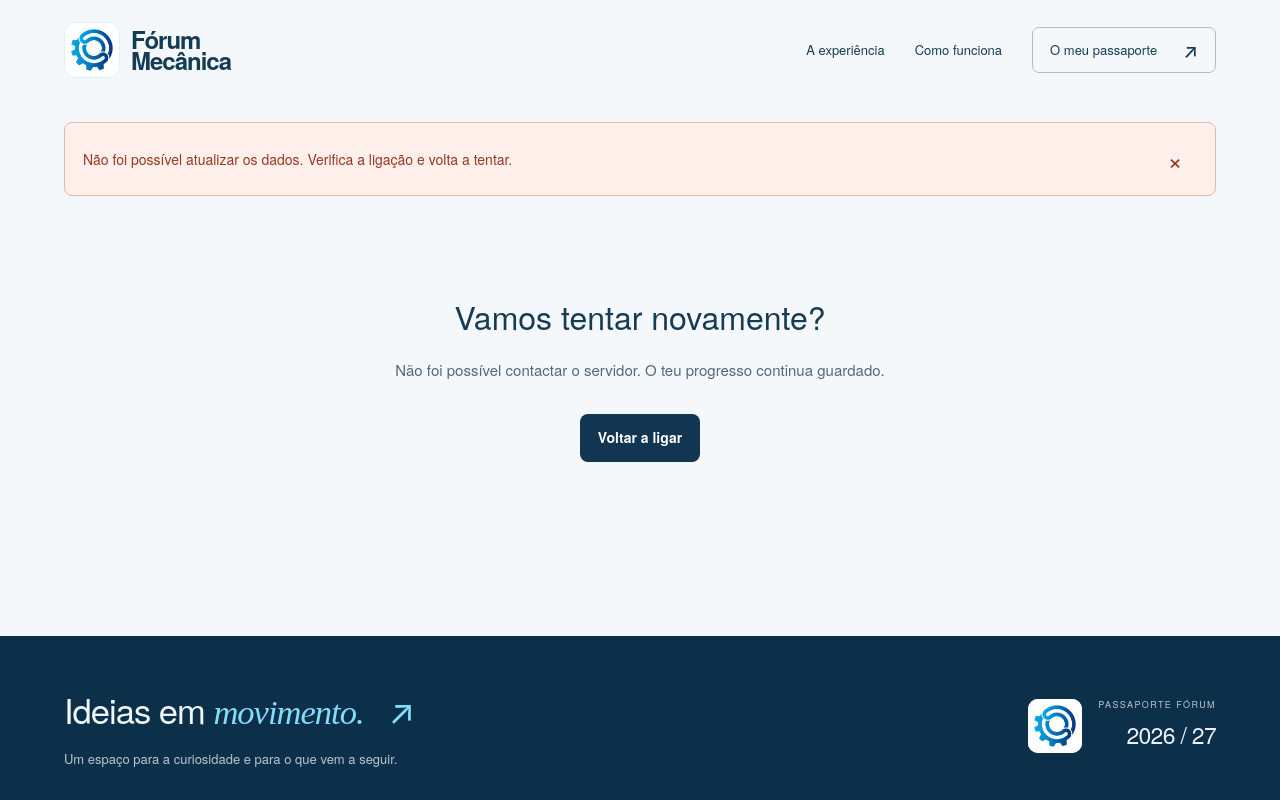
Test: Passaporte › permite recuperar de uma falha de ligação
The image size is (1280, 800).
Click the button "Voltar a ligar" at (640, 438), box [580,414,700,462]
(page scrolled)
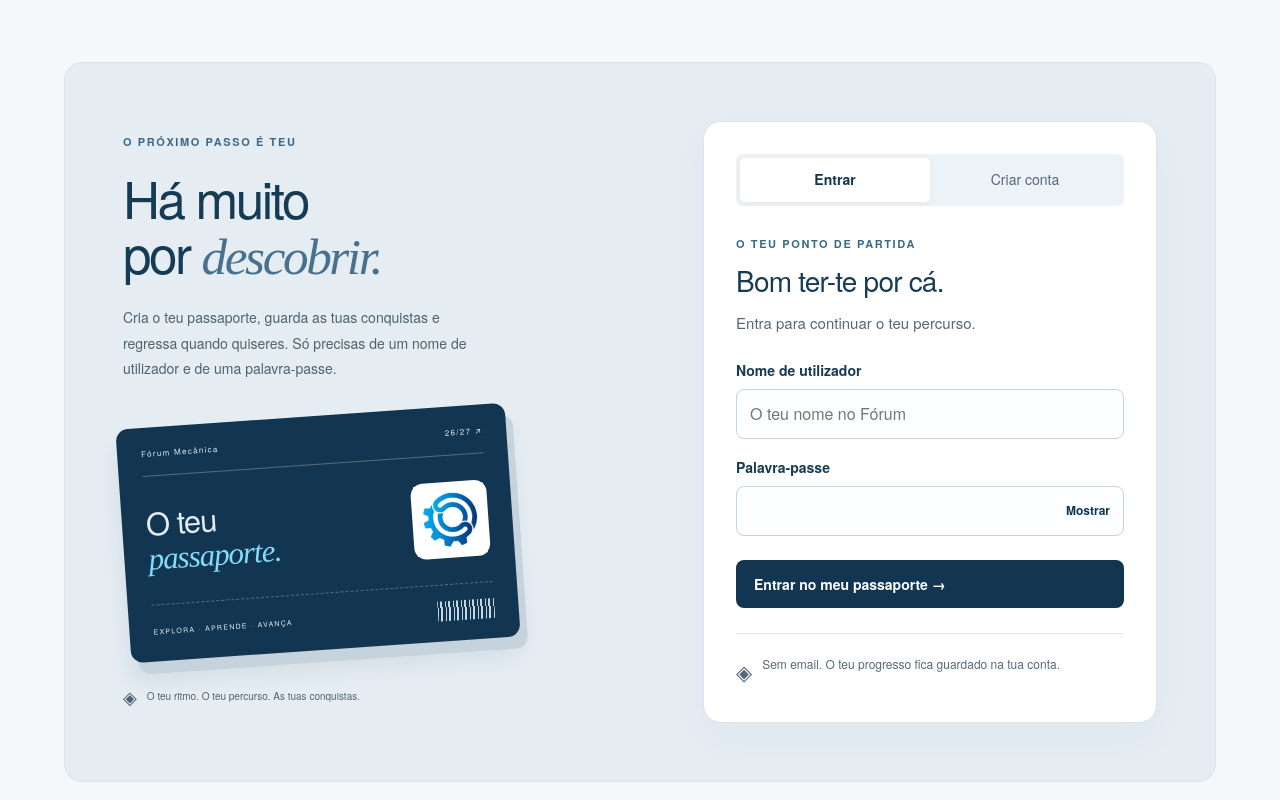
Check: the field labelled "Nome de utilizador" is shown, box [736,389,1124,439]
